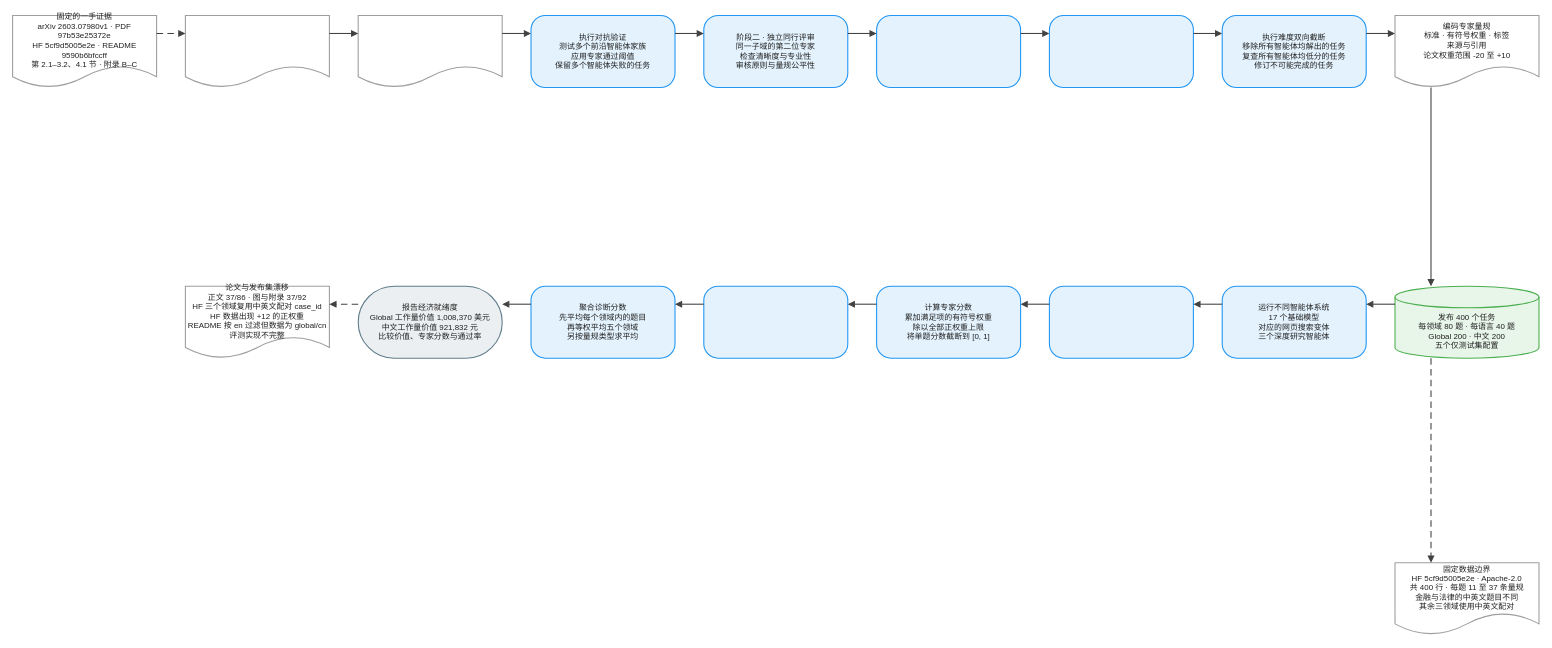
Image size: 1552x648. Some labels were removed from this diagram. The centre of each missing label's shape, as x and y in pixels:
"判定逐条量规满足情况 同时应用奖励与惩罚 事实 · 分析 · 指令遵循 结构与格式" belongs at point (1121, 321).
"定义高价值专业范围 金融 · 法律 · 医疗 自然科学 · 工业 超过 2,000 个专家工时" belongs at point (257, 51).
"计算通过率 单题分数至少 0.7 即通过 平均二元通过指示值 Global 与中文集分别统计" belongs at point (775, 321).
"迭代修订至专家共识 交换结构化反馈 统一任务与参考答案 统一评测标准" belongs at point (948, 51).
"阶段一 · 专家创建任务 编写实用半开放任务 提供参考推理过程 定义客观加权量规" belongs at point (429, 51).
"阶段三 · 解决风险样例 第三位专家审计争议 调整未解决条目 保障数据可靠性" belongs at point (1121, 51).
